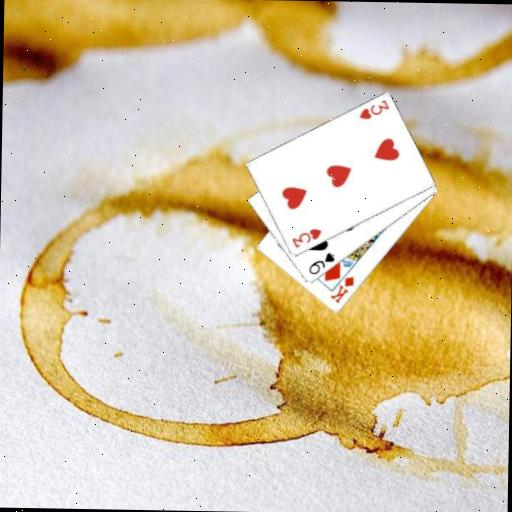3H: (356, 96, 390, 122), (289, 226, 323, 251)
9S: (306, 249, 337, 277)
KD: (327, 273, 356, 305)
